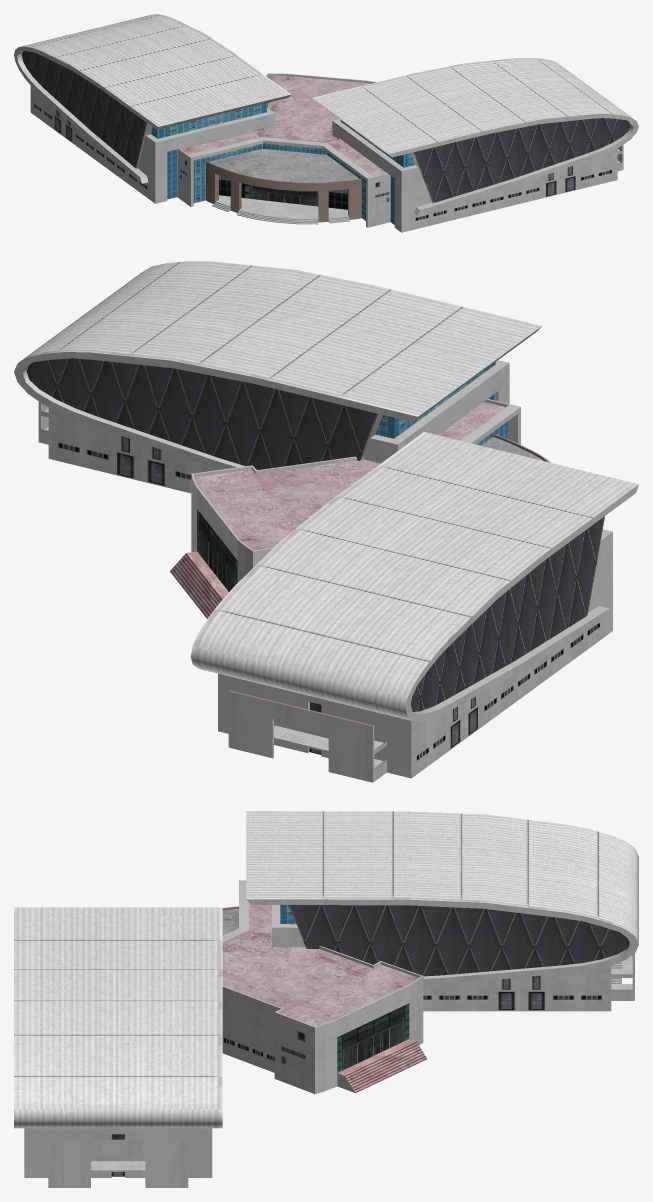
3 views of the same model, one above another, from view 1: azimuth 30°, elevation 25°; view 2: azimuth 150°, elevation 25°; view 3: azimuth 270°, elevation 25° (orthographic). The views are drawn at different scales.
Visible parts, largest first — view 1: HN1328_TTHuanLuyenTDTTHaNoi; view 2: HN1328_TTHuanLuyenTDTTHaNoi; view 3: HN1328_TTHuanLuyenTDTTHaNoi.
Boxes of the visible parts, <box> form: HN1328_TTHuanLuyenTDTTHaNoi: <box>14,14,638,232</box>; HN1328_TTHuanLuyenTDTTHaNoi: <box>14,261,638,782</box>; HN1328_TTHuanLuyenTDTTHaNoi: <box>14,811,638,1187</box>.
Bounding box in the file's own units: 101 × 20.89 × 102.
1 material, 1 textured.
